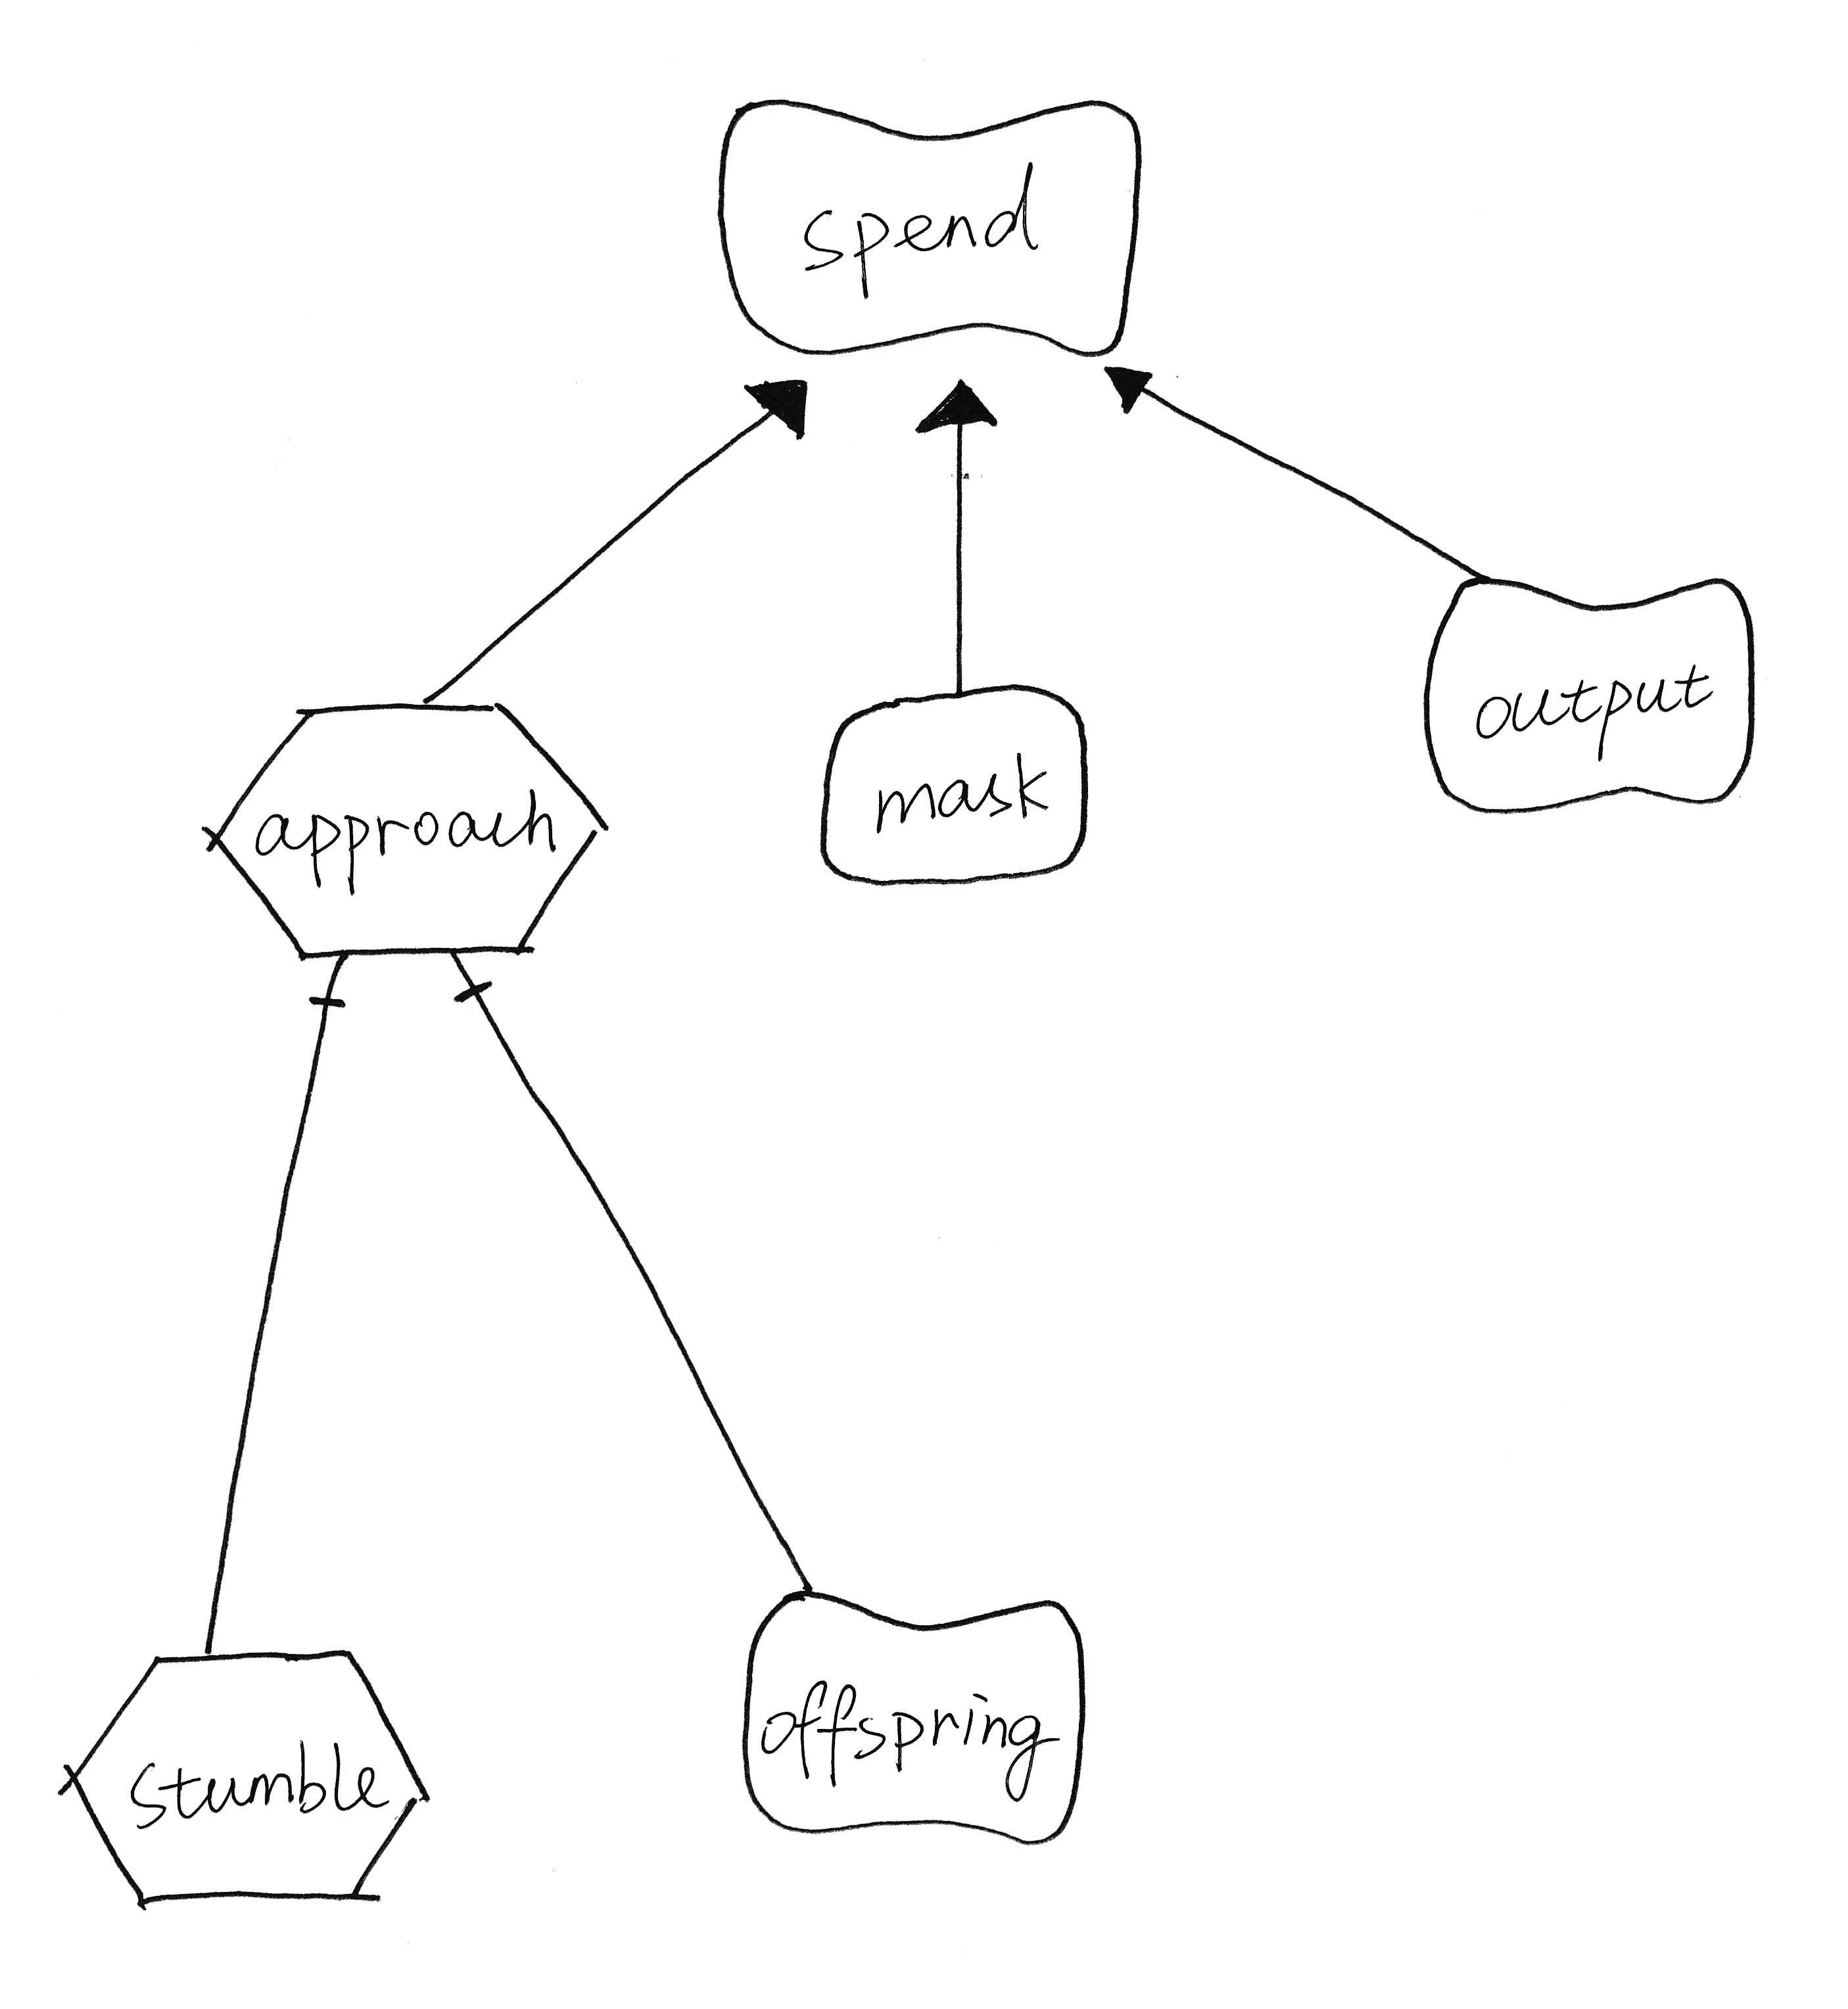and: (429, 957, 518, 1034), (296, 957, 364, 1041)
goal: (803, 668, 1108, 903)
or: (907, 357, 1006, 460), (737, 364, 824, 465), (1088, 345, 1164, 429)
quality: (690, 73, 1179, 380), (719, 1564, 1108, 1867), (1405, 553, 1775, 833)
task: (170, 677, 646, 990), (30, 1624, 473, 1935)
